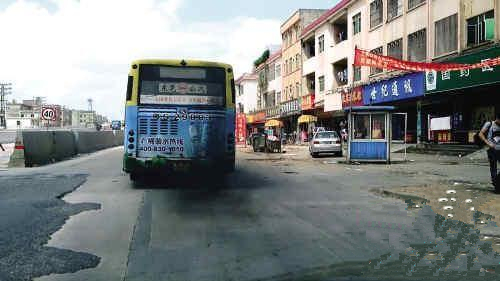smoke: (165, 156, 263, 220)
